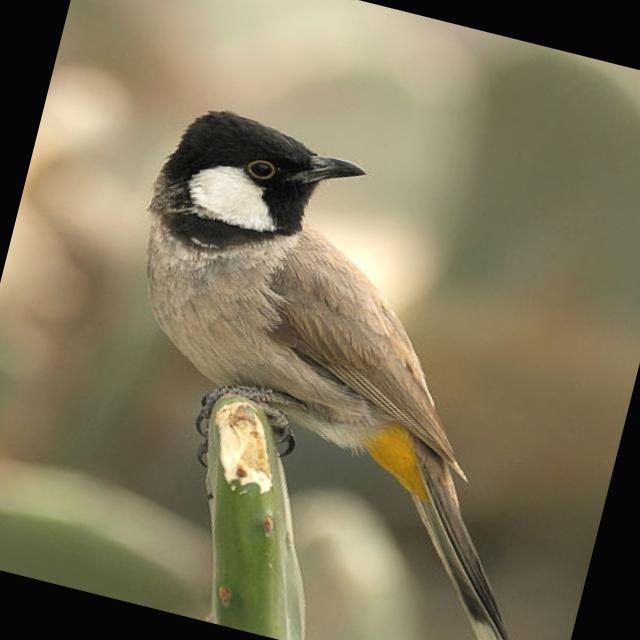bird: (54, 89, 640, 640)
